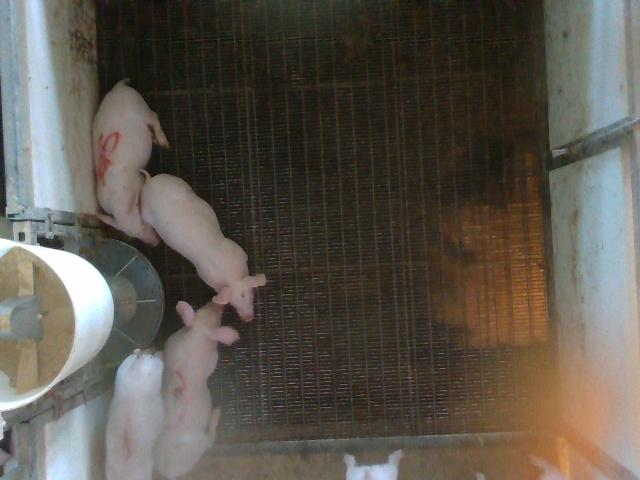pig-1: (105, 350, 165, 479)
pig-3: (154, 301, 239, 478)
pig-5: (92, 80, 169, 246)
